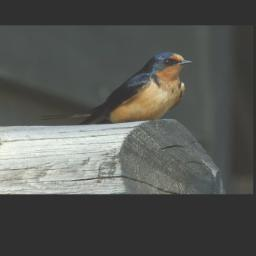Swallow: (37, 52, 193, 125)
